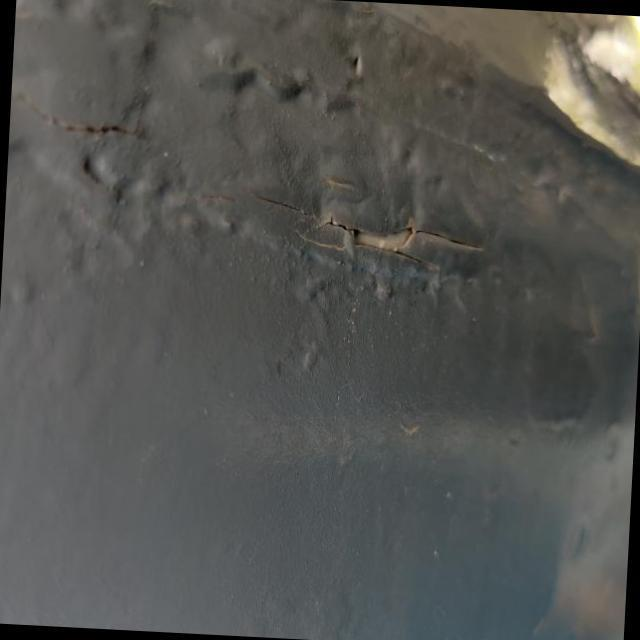Rupture: (240, 186, 500, 290)
